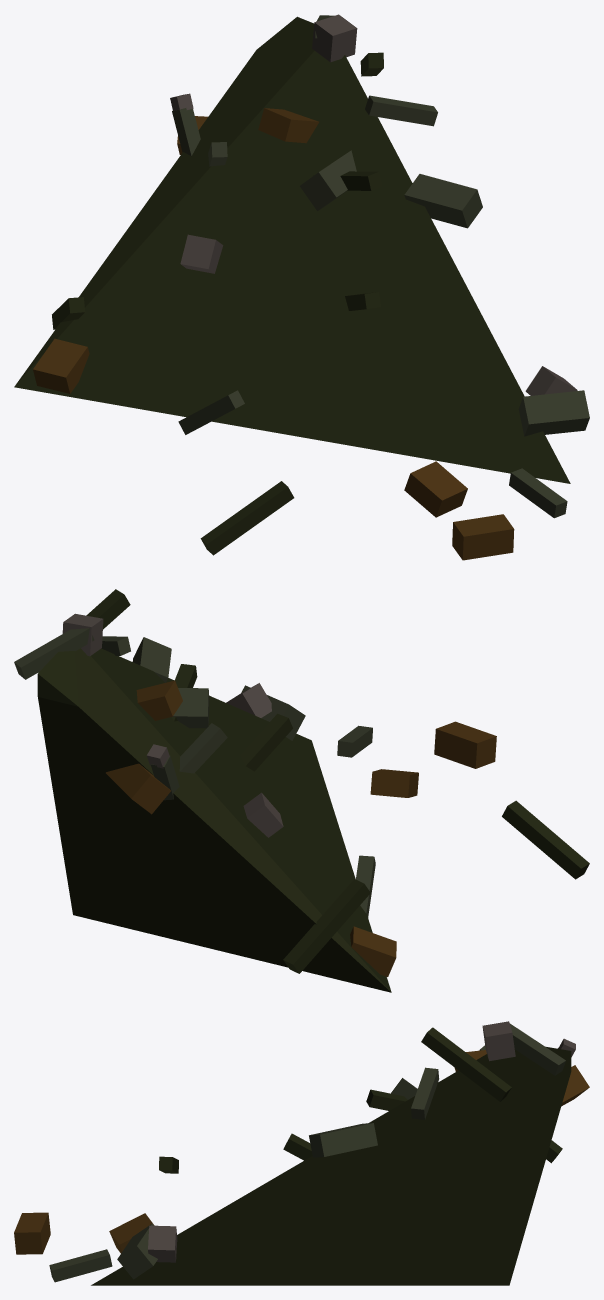
The model's file is SM_PilaZombi_RemateIzq_Altura5_s0_LOD1.fbx.
3 views of the same model, one above another, from view 1: azimuth 30°, elevation 25°; view 2: azimuth 150°, elevation 25°; view 3: azimuth 270°, elevation 25° (orthographic). The views are drawn at different scales.
Visible parts, largest first — view 1: SM_pila_zombis_v4_LOD1; view 2: SM_pila_zombis_v4_LOD1; view 3: SM_pila_zombis_v4_LOD1.
Boxes of the visible parts, x1,y1,x2,y2 form: SM_pila_zombis_v4_LOD1: [14, 14, 589, 560]; SM_pila_zombis_v4_LOD1: [14, 589, 589, 992]; SM_pila_zombis_v4_LOD1: [14, 1021, 589, 1285].
Bounding box in the file's own units: 3.37 × 2.74 × 5.12.
